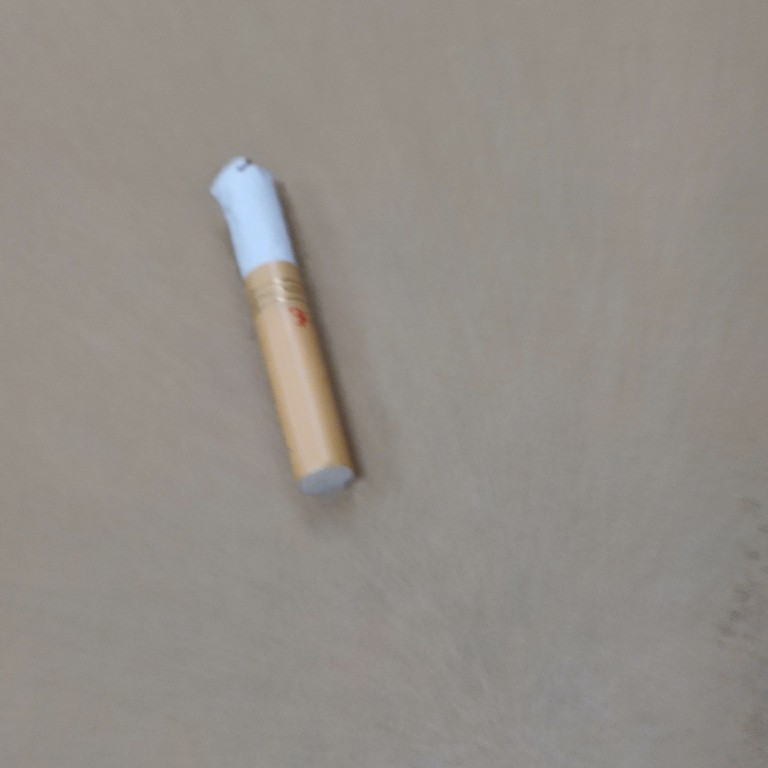cigarette: (204, 151, 360, 500)
